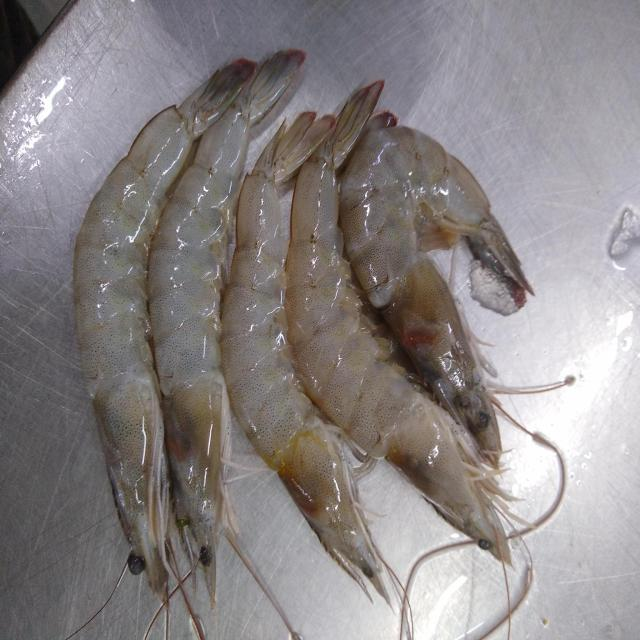shrimp: (72, 63, 254, 600), (285, 162, 511, 563), (149, 50, 304, 608), (221, 112, 388, 598), (340, 127, 532, 462)
